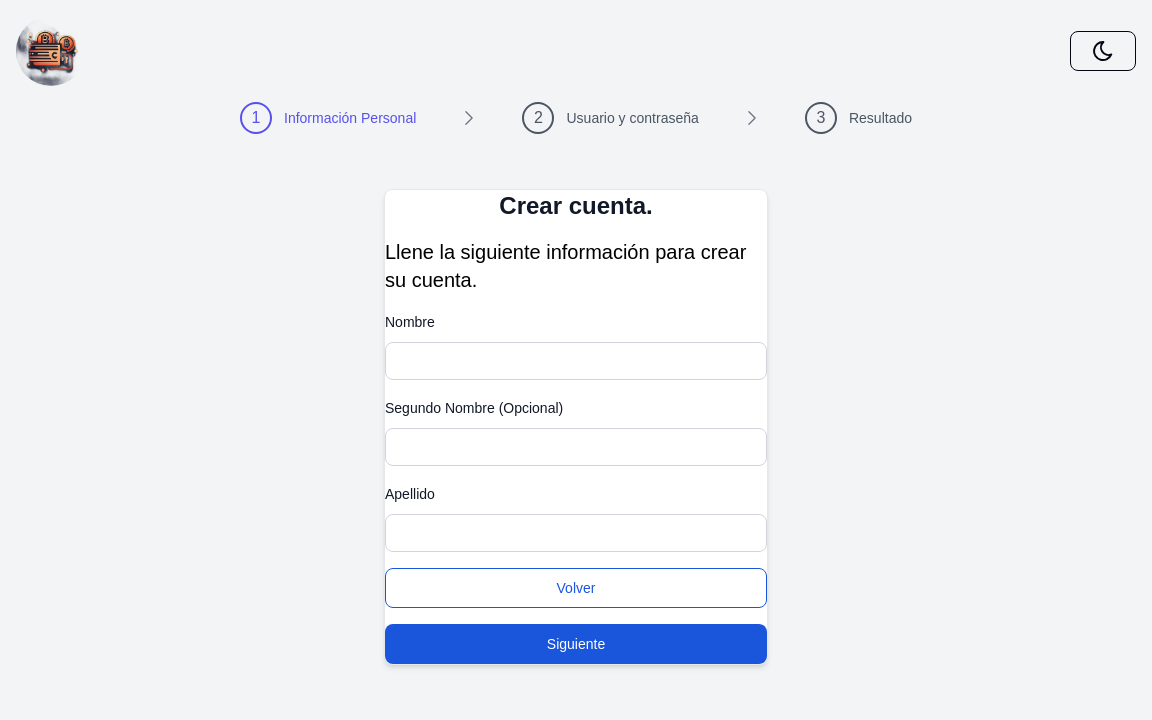
Register › Test creation of user › Given a user registering his user and something goes wrong, show error
This screenshot has width=1152, height=720.
Type "John" into the field with test id "firstName" at (576, 361), box [385,342,767,380]
Type "Paul" into the field with test id "middleName" at (576, 447), box [385,428,767,466]
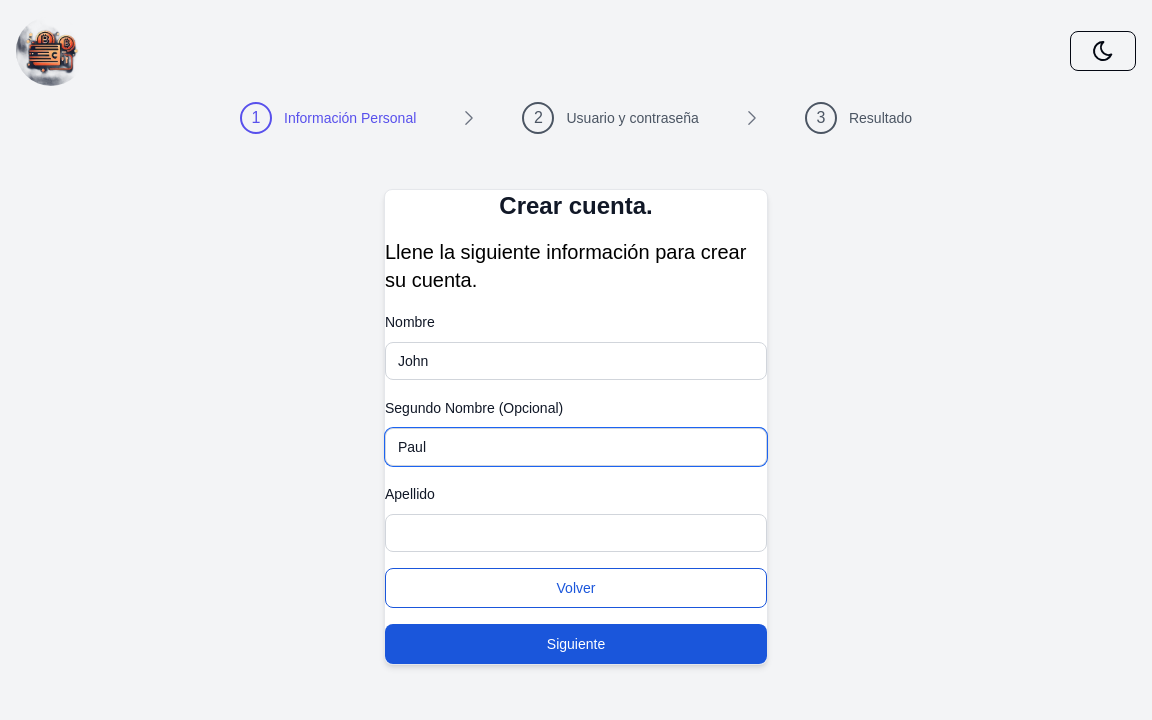
Type "Doe" into the field labelled "Apellido" at (576, 533), box [385,514,767,552]
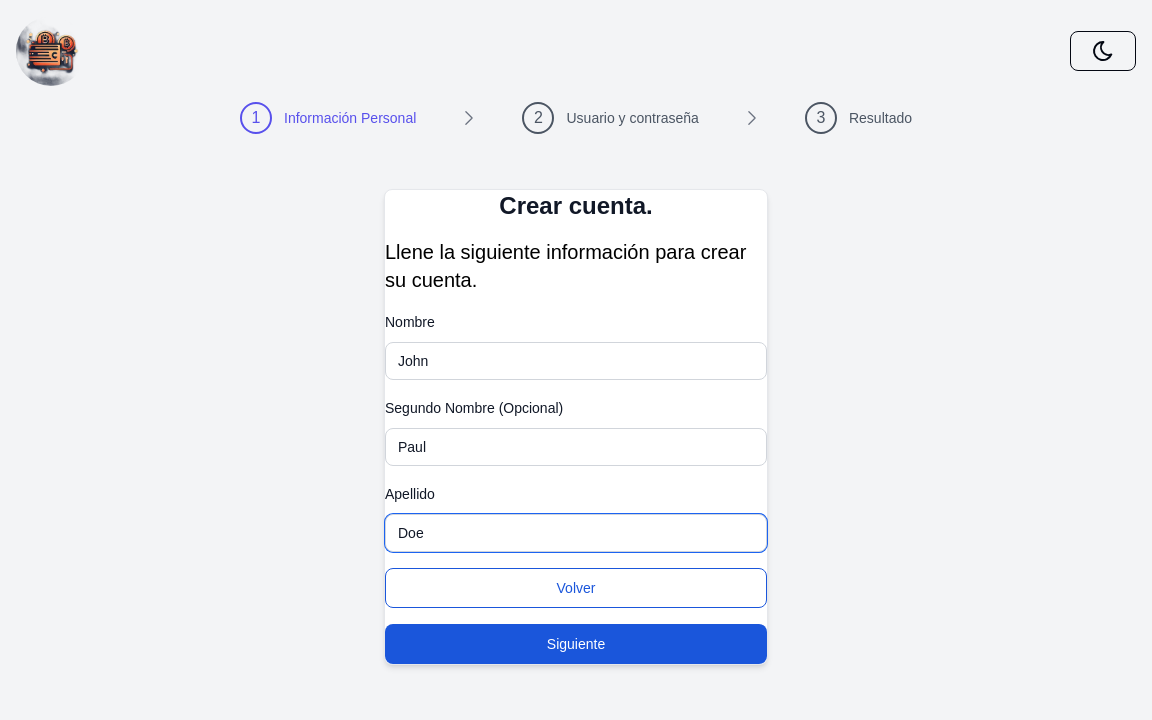
Click the button "Siguiente" at (576, 644), box [385,624,767,664]
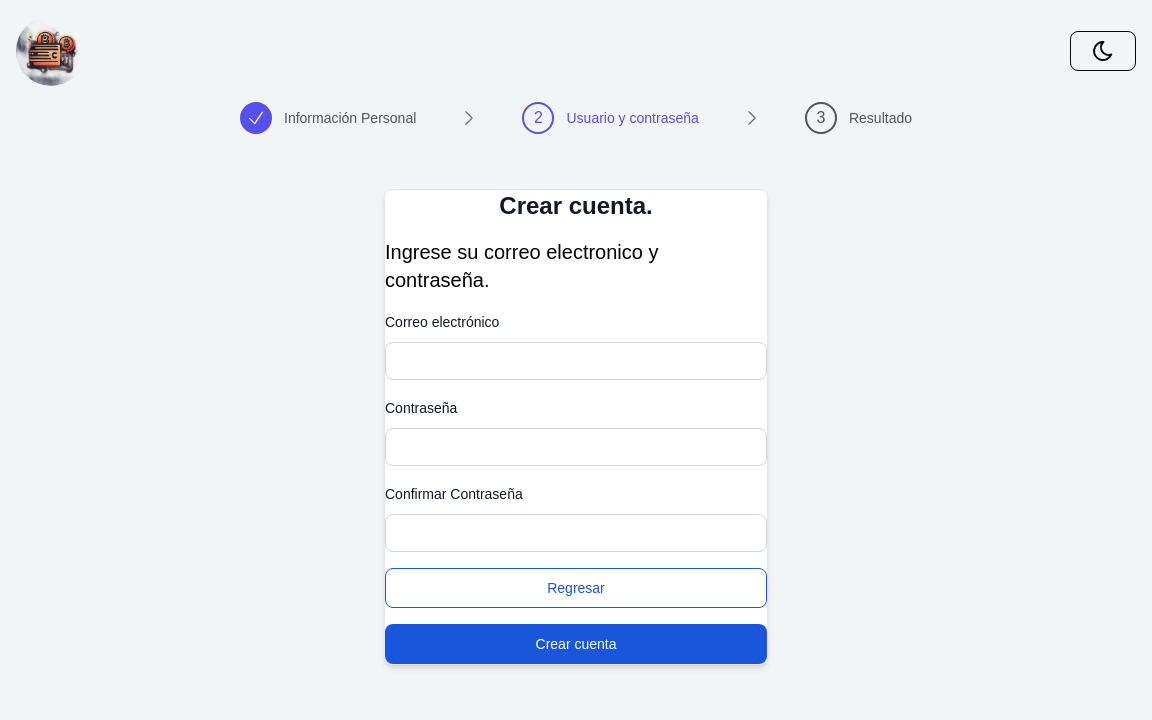
Type "rafa@example.com" into the field labelled "Correo electrónico" at (576, 361), box [385,342,767,380]
Type "UnaContrase;amuylargaparaminuevacuenta!1" into the password field with test id "password" at (576, 447), box [385,428,767,466]
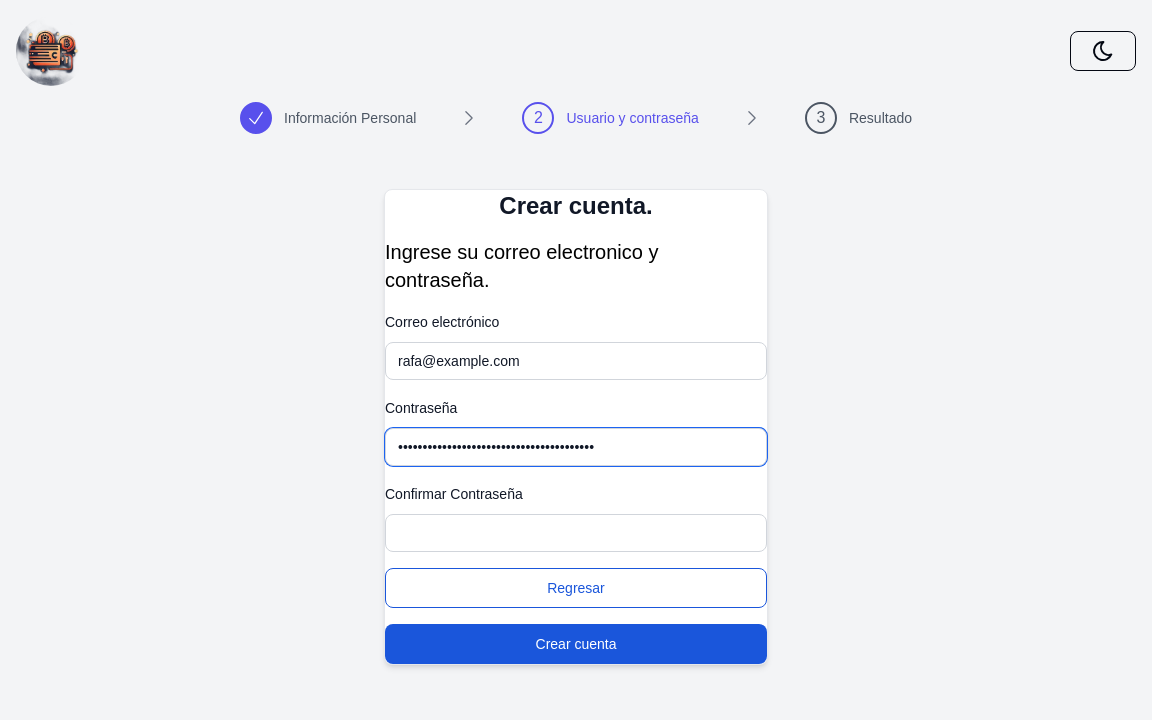
Type "UnaContrase;amuylargaparaminuevacuenta!1" into the password field with test id "confirmPassword" at (576, 533), box [385,514,767,552]
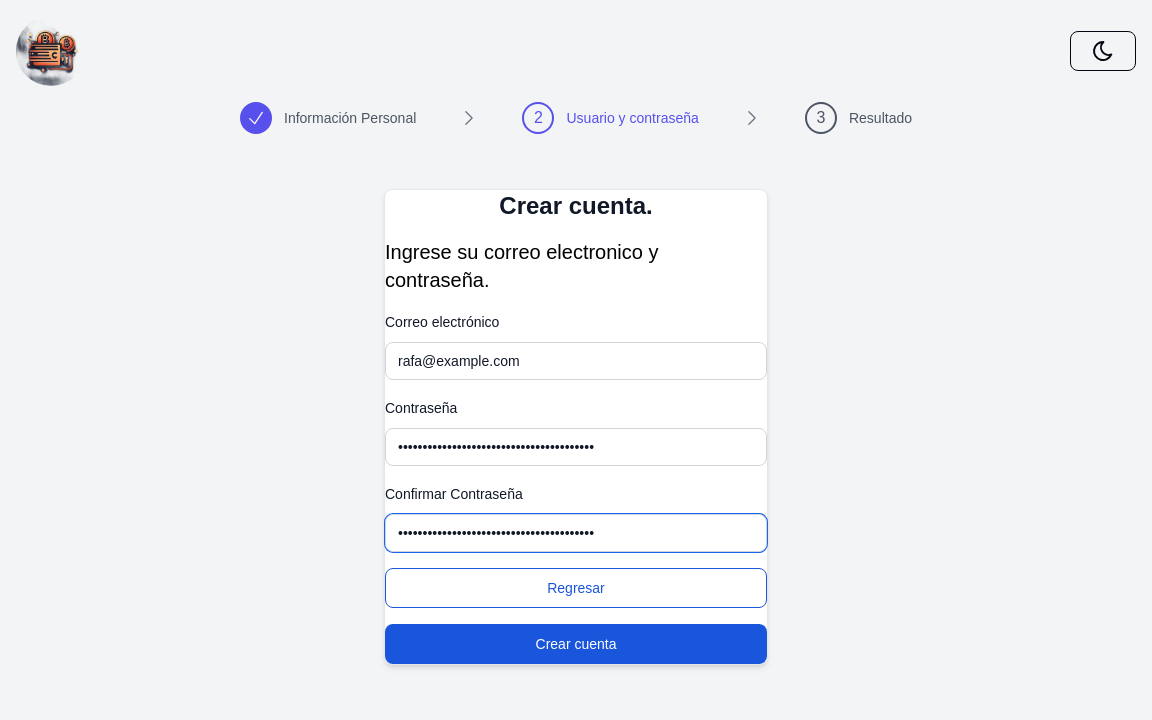
Click the button "Crear cuenta" at (576, 644), box [385,624,767,664]
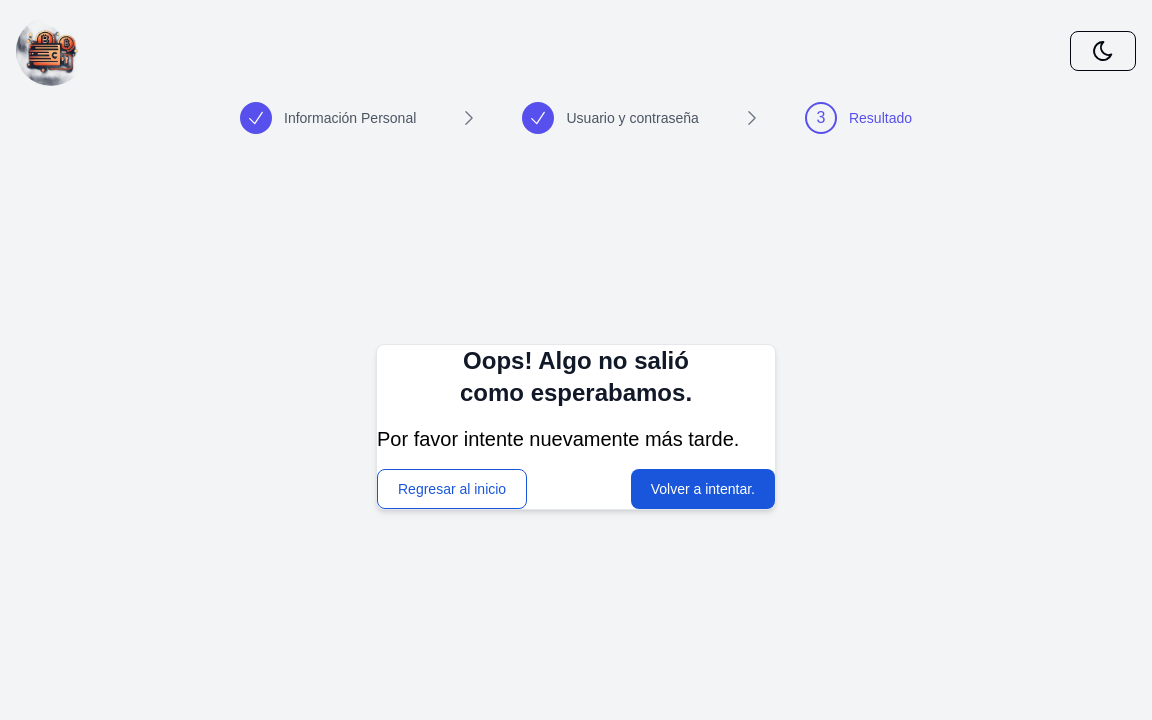
Check: the heading "Oops! Algo no salió como esperabamos." is shown, box [460,347,692,406]
Check: the text "Por favor intente nuevamente más tarde." is shown, box [377,425,775,453]
Check: the link "Regresar al inicio" is shown, box [377,469,527,509]
